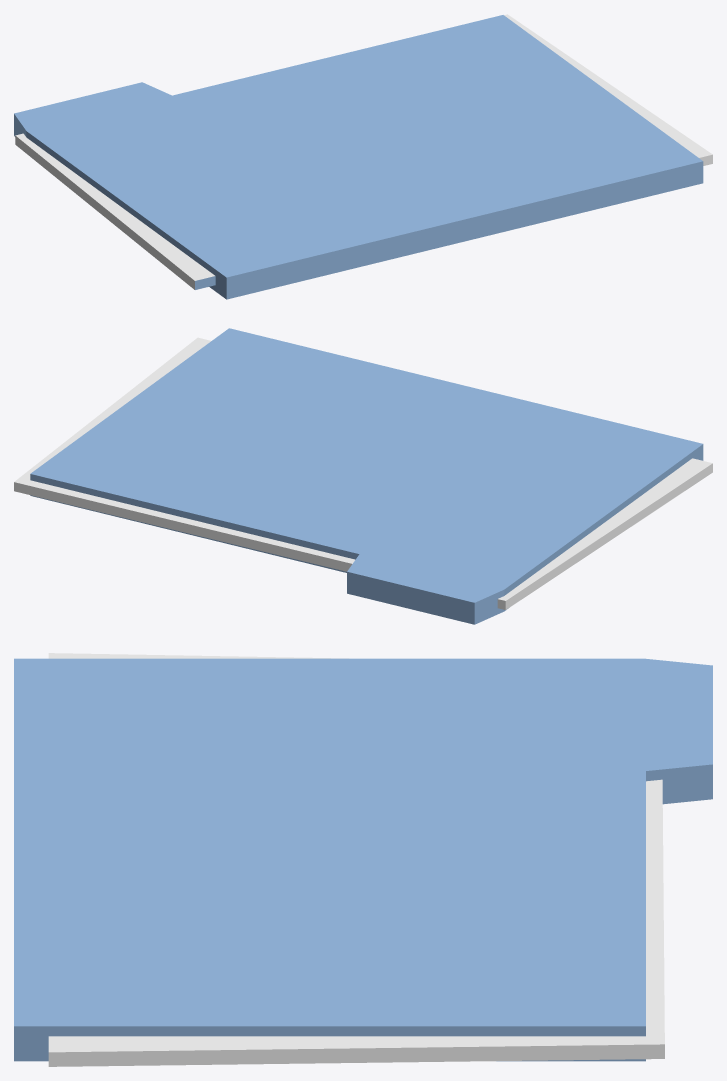
File: Folder_01.fbx
3 renders of one model, top to bottom at view 1: azimuth 30°, elevation 25°; view 2: azimuth 150°, elevation 25°; view 3: azimuth 270°, elevation 25°, orthographic. The views are drawn at different scales.
Visible parts, largest first — view 1: SM_Prop_Folder_02; view 2: SM_Prop_Folder_02; view 3: SM_Prop_Folder_02.
Boxes of the visible parts, x1,y1,x2,y2 form: SM_Prop_Folder_02: (14,14,712,299); SM_Prop_Folder_02: (14,328,712,624); SM_Prop_Folder_02: (14,653,712,1066).
Bounding box in the file's own units: 0.5418 × 0.022 × 0.4008.
